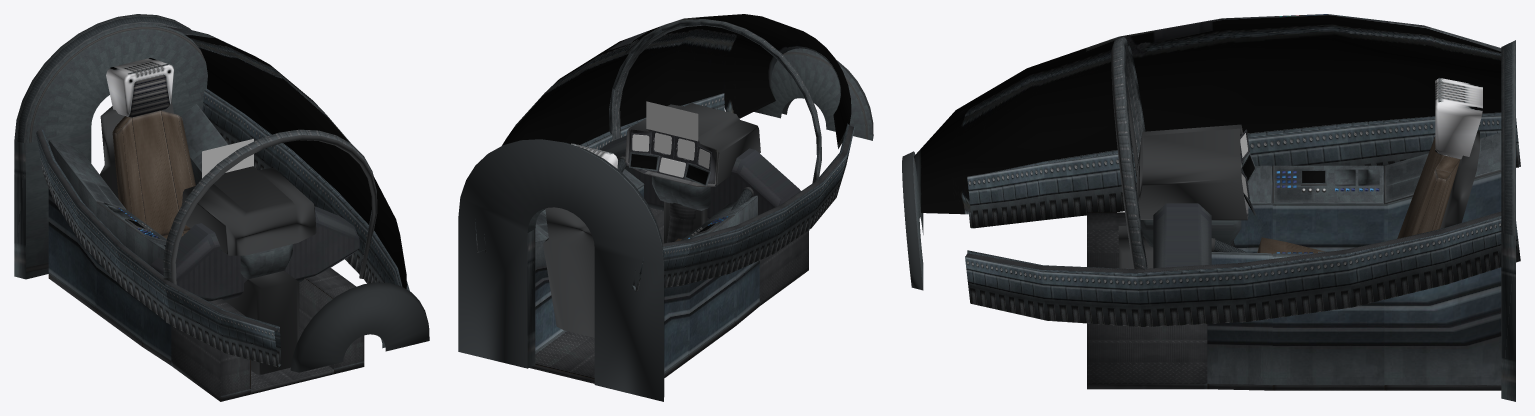
The model's file is FalconPit.fbx.
The picture shows the model from 3 angles, left to right: view 1: azimuth 30°, elevation 25°; view 2: azimuth 150°, elevation 25°; view 3: azimuth 270°, elevation 25°; orthographic projection. The views are drawn at different scales.
Visible parts, largest first — view 1: FalconPit; view 2: FalconPit; view 3: FalconPit.
Boxes of the visible parts, bbox=[...] form: FalconPit: bbox=[14, 14, 429, 401]; FalconPit: bbox=[458, 14, 873, 401]; FalconPit: bbox=[902, 14, 1520, 401].
Bounding box in the file's own units: 415 × 468 × 809.
